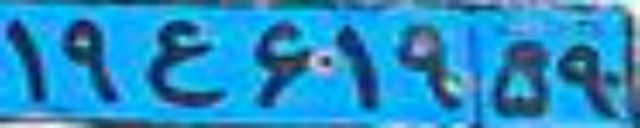1: (332, 23, 378, 107), (6, 19, 47, 101)
5: (491, 43, 546, 115)
6: (248, 22, 320, 108)
9: (395, 23, 456, 110), (63, 19, 124, 102), (556, 46, 620, 118)
ain: (143, 20, 227, 106)
